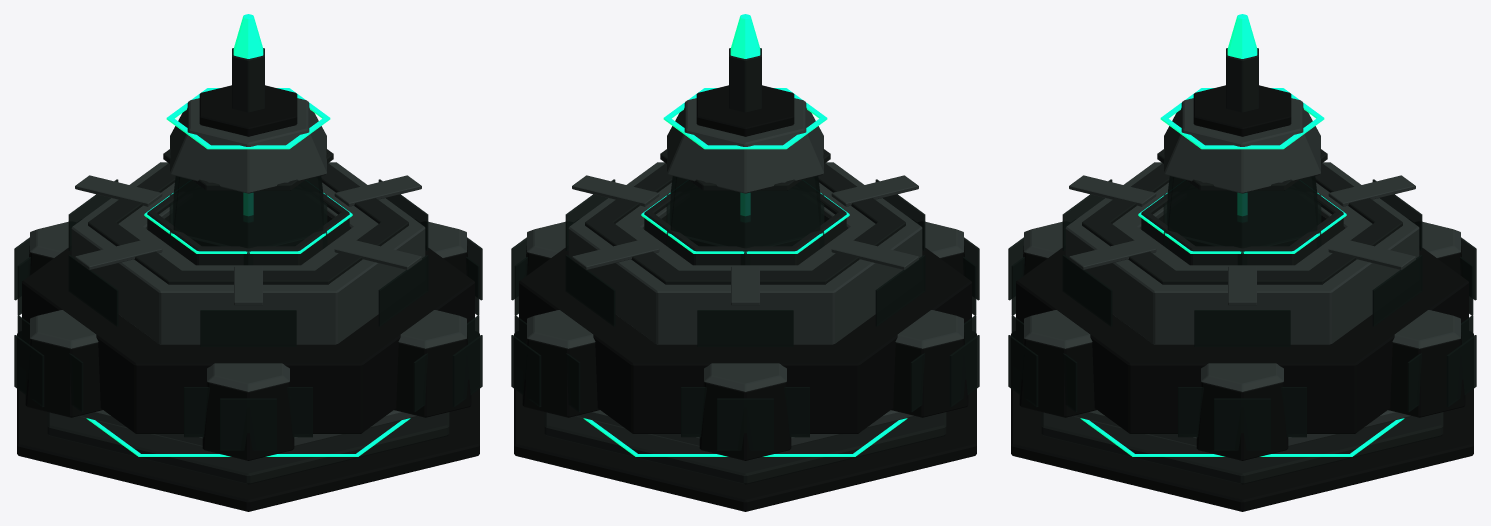
File: academy-lod1.glb
3 renders of one model, left to right at view 1: azimuth 30°, elevation 25°; view 2: azimuth 150°, elevation 25°; view 3: azimuth 270°, elevation 25°, orthographic.
Parts seen in each view (by area): view 1: AC_LowerTerracedAcademicShell.001, AC_UpperTerracedAcademicShell.001, AC_Foundation.001, AC_LowerLearningTerrace.001, AC_ObservatoryCrown.001, AC_ObservatorySmokeGlass.001, AC_AtriumSmokeGlass.001, AC_ObservationWalkway.001, AC_AtriumFrame.001, AC_AcousticStudio_Body.001, AC_Classroom_6_Body.001, AC_UpperTerraceGlass_5.001 (+29 smaller); view 2: AC_LowerTerracedAcademicShell.001, AC_UpperTerracedAcademicShell.001, AC_Foundation.001, AC_LowerLearningTerrace.001, AC_ObservatoryCrown.001, AC_ObservatorySmokeGlass.001, AC_AtriumSmokeGlass.001, AC_ObservationWalkway.001, AC_AtriumFrame.001, AC_AcousticStudio_Body.001, AC_Classroom_2_Body.001, AC_UpperTerraceGlass_3.001 (+29 smaller); view 3: AC_LowerTerracedAcademicShell.001, AC_UpperTerracedAcademicShell.001, AC_Foundation.001, AC_LowerLearningTerrace.001, AC_ObservatoryCrown.001, AC_ObservatorySmokeGlass.001, AC_AtriumSmokeGlass.001, AC_ObservationWalkway.001, AC_AtriumFrame.001, AC_Classroom_2_Body.001, AC_Classroom_6_Body.001, AC_UpperTerraceGlass_1.001 (+29 smaller).
Part boxes in pixels (bbox=[...]): AC_LowerTerracedAcademicShell.001: bbox=[22, 248, 474, 433]; AC_UpperTerracedAcademicShell.001: bbox=[71, 162, 425, 344]; AC_Foundation.001: bbox=[17, 333, 479, 511]; AC_LowerLearningTerrace.001: bbox=[47, 412, 449, 484]; AC_ObservatoryCrown.001: bbox=[170, 98, 326, 193]; AC_ObservatorySmokeGlass.001: bbox=[173, 176, 323, 248]; AC_AtriumSmokeGlass.001: bbox=[169, 189, 327, 265]; AC_ObservationWalkway.001: bbox=[88, 163, 408, 284]; AC_AtriumFrame.001: bbox=[147, 192, 349, 265]; AC_AcousticStudio_Body.001: bbox=[25, 332, 102, 417]; AC_Classroom_6_Body.001: bbox=[394, 332, 471, 417]; AC_UpperTerraceGlass_5.001: bbox=[200, 310, 296, 346]; AC_LowerTerracedAcademicShell.001: bbox=[519, 248, 971, 433]; AC_UpperTerracedAcademicShell.001: bbox=[568, 162, 922, 344]; AC_Foundation.001: bbox=[514, 333, 976, 511]; AC_LowerLearningTerrace.001: bbox=[544, 412, 946, 484]; AC_ObservatoryCrown.001: bbox=[667, 98, 823, 193]; AC_ObservatorySmokeGlass.001: bbox=[670, 176, 820, 248]; AC_AtriumSmokeGlass.001: bbox=[666, 189, 824, 265]; AC_ObservationWalkway.001: bbox=[585, 163, 905, 284]; AC_AtriumFrame.001: bbox=[644, 192, 846, 265]; AC_AcousticStudio_Body.001: bbox=[891, 332, 968, 417]; AC_Classroom_2_Body.001: bbox=[522, 332, 599, 417]; AC_UpperTerraceGlass_3.001: bbox=[697, 310, 793, 346]; AC_LowerTerracedAcademicShell.001: bbox=[1016, 248, 1468, 433]; AC_UpperTerracedAcademicShell.001: bbox=[1065, 162, 1419, 344]; AC_Foundation.001: bbox=[1011, 333, 1473, 511]; AC_LowerLearningTerrace.001: bbox=[1041, 412, 1443, 484]; AC_ObservatoryCrown.001: bbox=[1164, 98, 1320, 193]; AC_ObservatorySmokeGlass.001: bbox=[1167, 176, 1317, 248]; AC_AtriumSmokeGlass.001: bbox=[1163, 189, 1321, 265]; AC_ObservationWalkway.001: bbox=[1082, 163, 1402, 284]; AC_AtriumFrame.001: bbox=[1141, 192, 1343, 265]; AC_Classroom_2_Body.001: bbox=[1388, 332, 1465, 417]; AC_Classroom_6_Body.001: bbox=[1019, 332, 1096, 417]; AC_UpperTerraceGlass_1.001: bbox=[1194, 310, 1290, 346].
Size of what is drawn, in the model's own units: 47.82 by 38 by 42.03.
